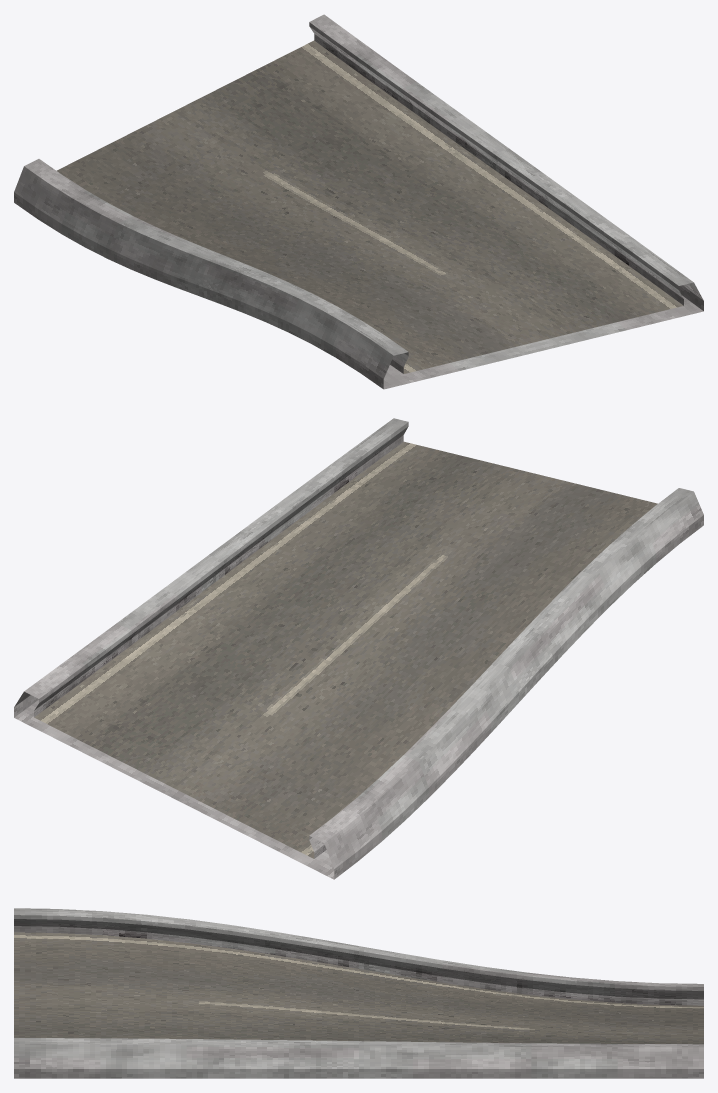
The model's file is straight2.glb.
3 renders of one model, top to bottom at view 1: azimuth 30°, elevation 25°; view 2: azimuth 150°, elevation 25°; view 3: azimuth 270°, elevation 25°, orthographic. The views are drawn at different scales.
Parts seen in each view (by area): view 1: road-Straight-Flat-HalfBankedLeft-Down1-Center-Size2; view 2: road-Straight-Flat-HalfBankedLeft-Down1-Center-Size2; view 3: road-Straight-Flat-HalfBankedLeft-Down1-Center-Size2.
Boxes of the visible parts, x1,y1,x2,y2 form: road-Straight-Flat-HalfBankedLeft-Down1-Center-Size2: (14, 14, 703, 389); road-Straight-Flat-HalfBankedLeft-Down1-Center-Size2: (14, 418, 703, 879); road-Straight-Flat-HalfBankedLeft-Down1-Center-Size2: (14, 908, 703, 1078).
Size of the model in its own units: 1 by 0.3438 by 2.
2 materials, 2 textured.
